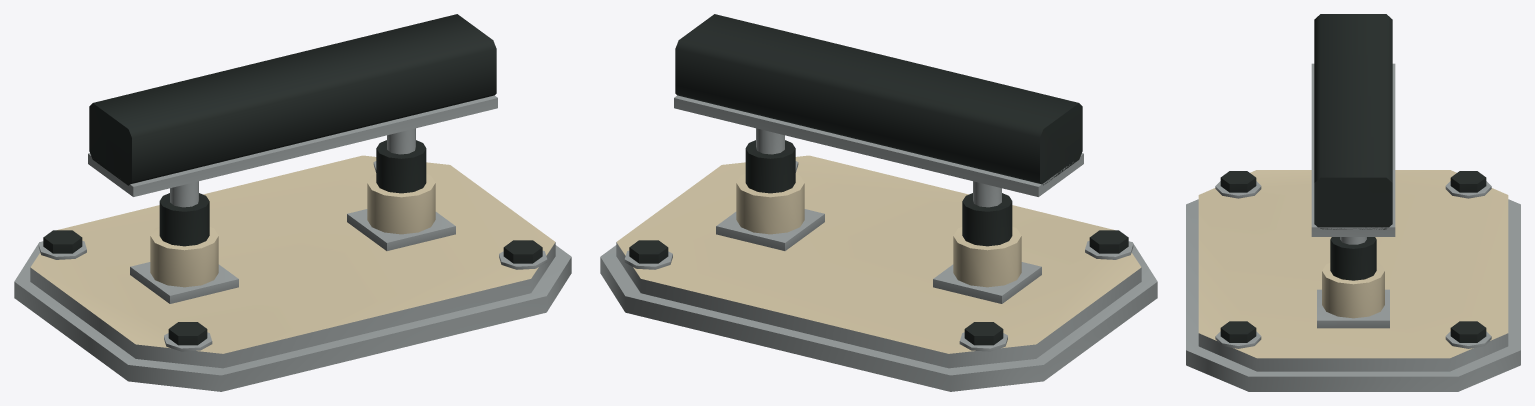
Rendered from panel_bumper.glb.
The picture shows the model from 3 angles, left to right: view 1: azimuth 30°, elevation 25°; view 2: azimuth 150°, elevation 25°; view 3: azimuth 270°, elevation 25°; orthographic projection. The views are drawn at different scales.
Visible parts, largest first — view 1: panel_bumper; view 2: panel_bumper; view 3: panel_bumper.
Part boxes in pixels (x1,y1,x2,y2): panel_bumper: [14, 14, 571, 391]; panel_bumper: [600, 14, 1157, 391]; panel_bumper: [1186, 14, 1520, 391].
Size of the model in its own units: 0.45 by 0.2075 by 0.32.
